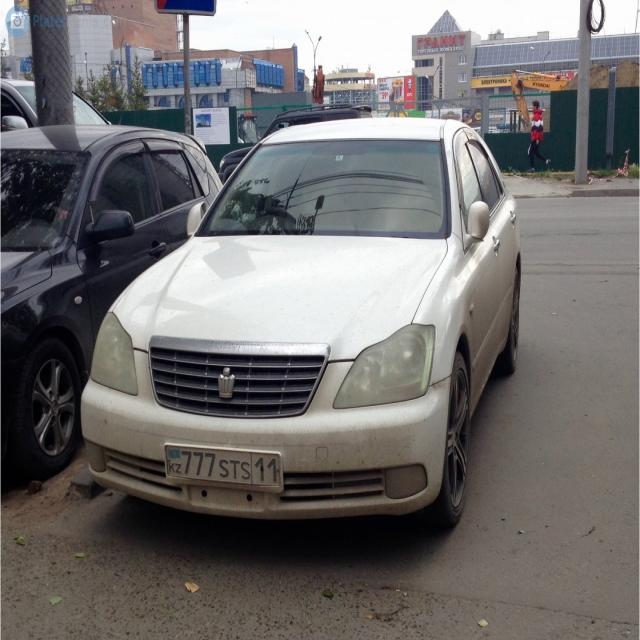car: (80, 115, 522, 528), (0, 123, 224, 480), (0, 78, 112, 130)
license: (164, 444, 284, 493)
